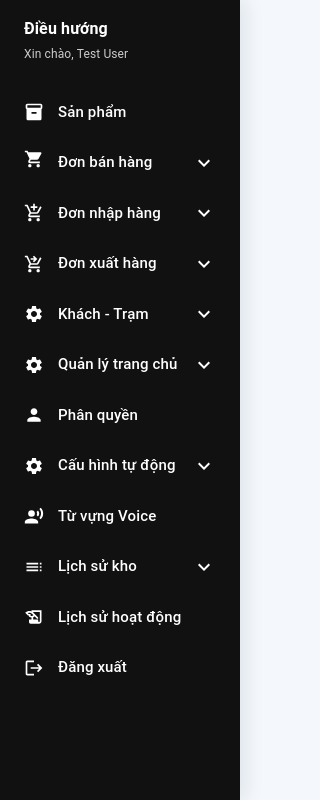
Sidebar › shows admin-only menus for admin/superadmin
The image size is (320, 800).
expect the text "Phân quyền" is shown: met, box [58,406,138,424]
expect the text "Cấu hình tự động" is shown: met, box [58,454,192,477]
Click the button "Cấu hình tự động" at (120, 466), box [24,454,216,478]
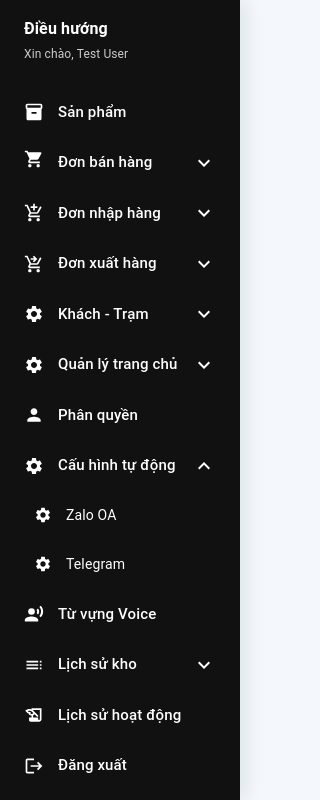
expect the text "Zalo OA" is shown: met, box [66,507,116,523]
expect the text "Telegram" is shown: met, box [66,556,125,572]
